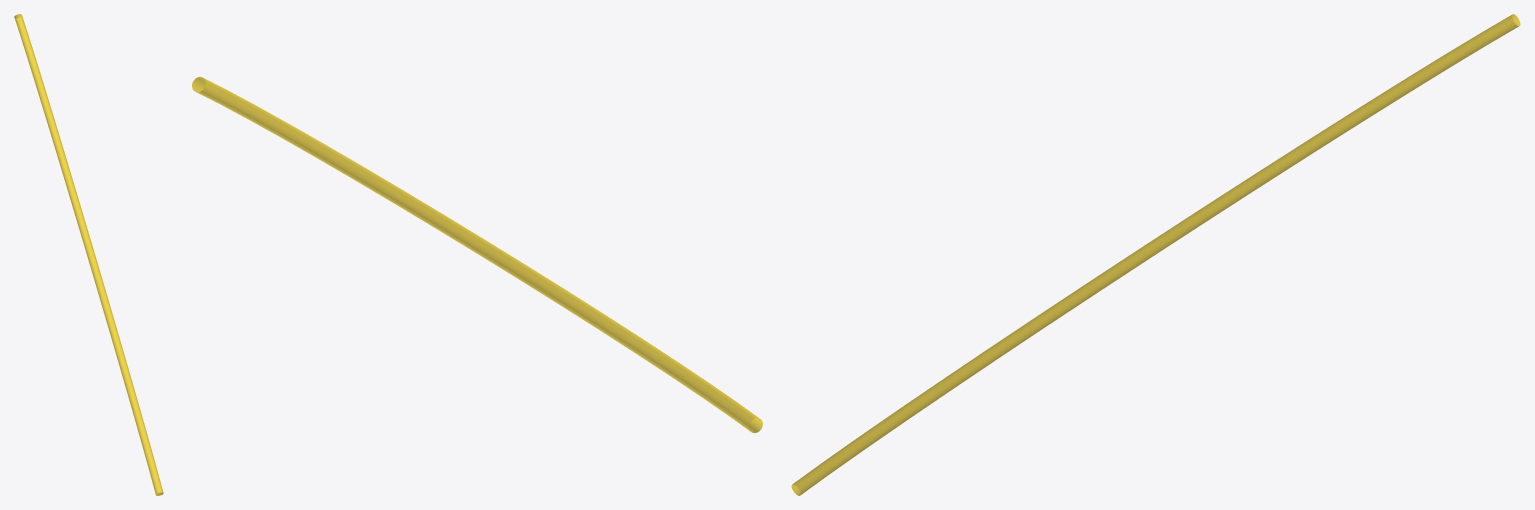
Rendered from Event_75125125_track_13.fbx.
3 renders of one model, left to right at view 1: azimuth 30°, elevation 25°; view 2: azimuth 150°, elevation 25°; view 3: azimuth 270°, elevation 25°, orthographic. The views are drawn at different scales.
Parts seen in each view (by area): view 1: Model; view 2: Model; view 3: Model.
Part boxes in pixels (bbox=[...]): Model: bbox=[14, 14, 163, 495]; Model: bbox=[192, 77, 762, 433]; Model: bbox=[791, 14, 1520, 495].
Bounding box in the file's own units: 0.4317 × 1.72 × 2.11.
